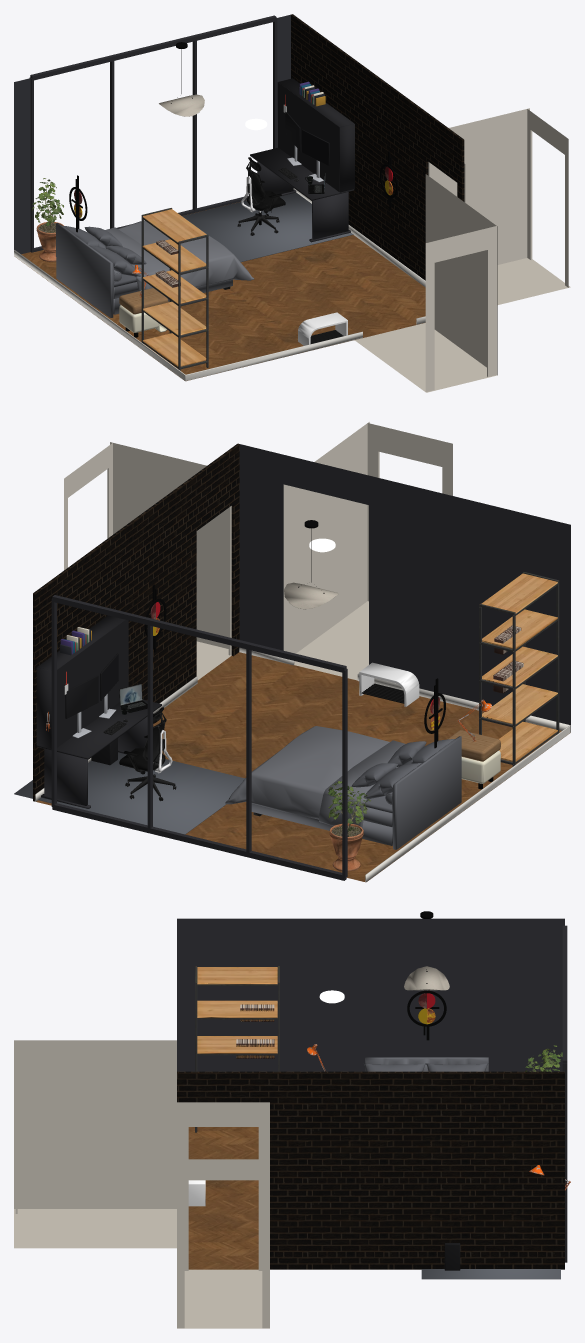
The model's file is set0.glb.
The picture shows the model from 3 angles, top to bottom: view 1: azimuth 30°, elevation 25°; view 2: azimuth 150°, elevation 25°; view 3: azimuth 270°, elevation 25°; orthographic projection. The views are drawn at different scales.
Parts seen in each view (by area): view 1: Static; view 2: Static; view 3: Static.
Boxes of the visible parts, bbox=[...] form: Static: bbox=[14, 14, 570, 392]; Static: bbox=[14, 422, 570, 882]; Static: bbox=[14, 911, 570, 1328].
Bounding box in the file's own units: 6.5 × 3.74 × 7.18.
61 materials, 27 textured.
